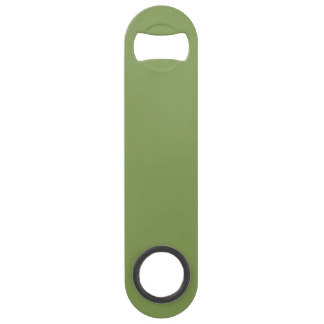bottleopener: (124, 5, 199, 319)
